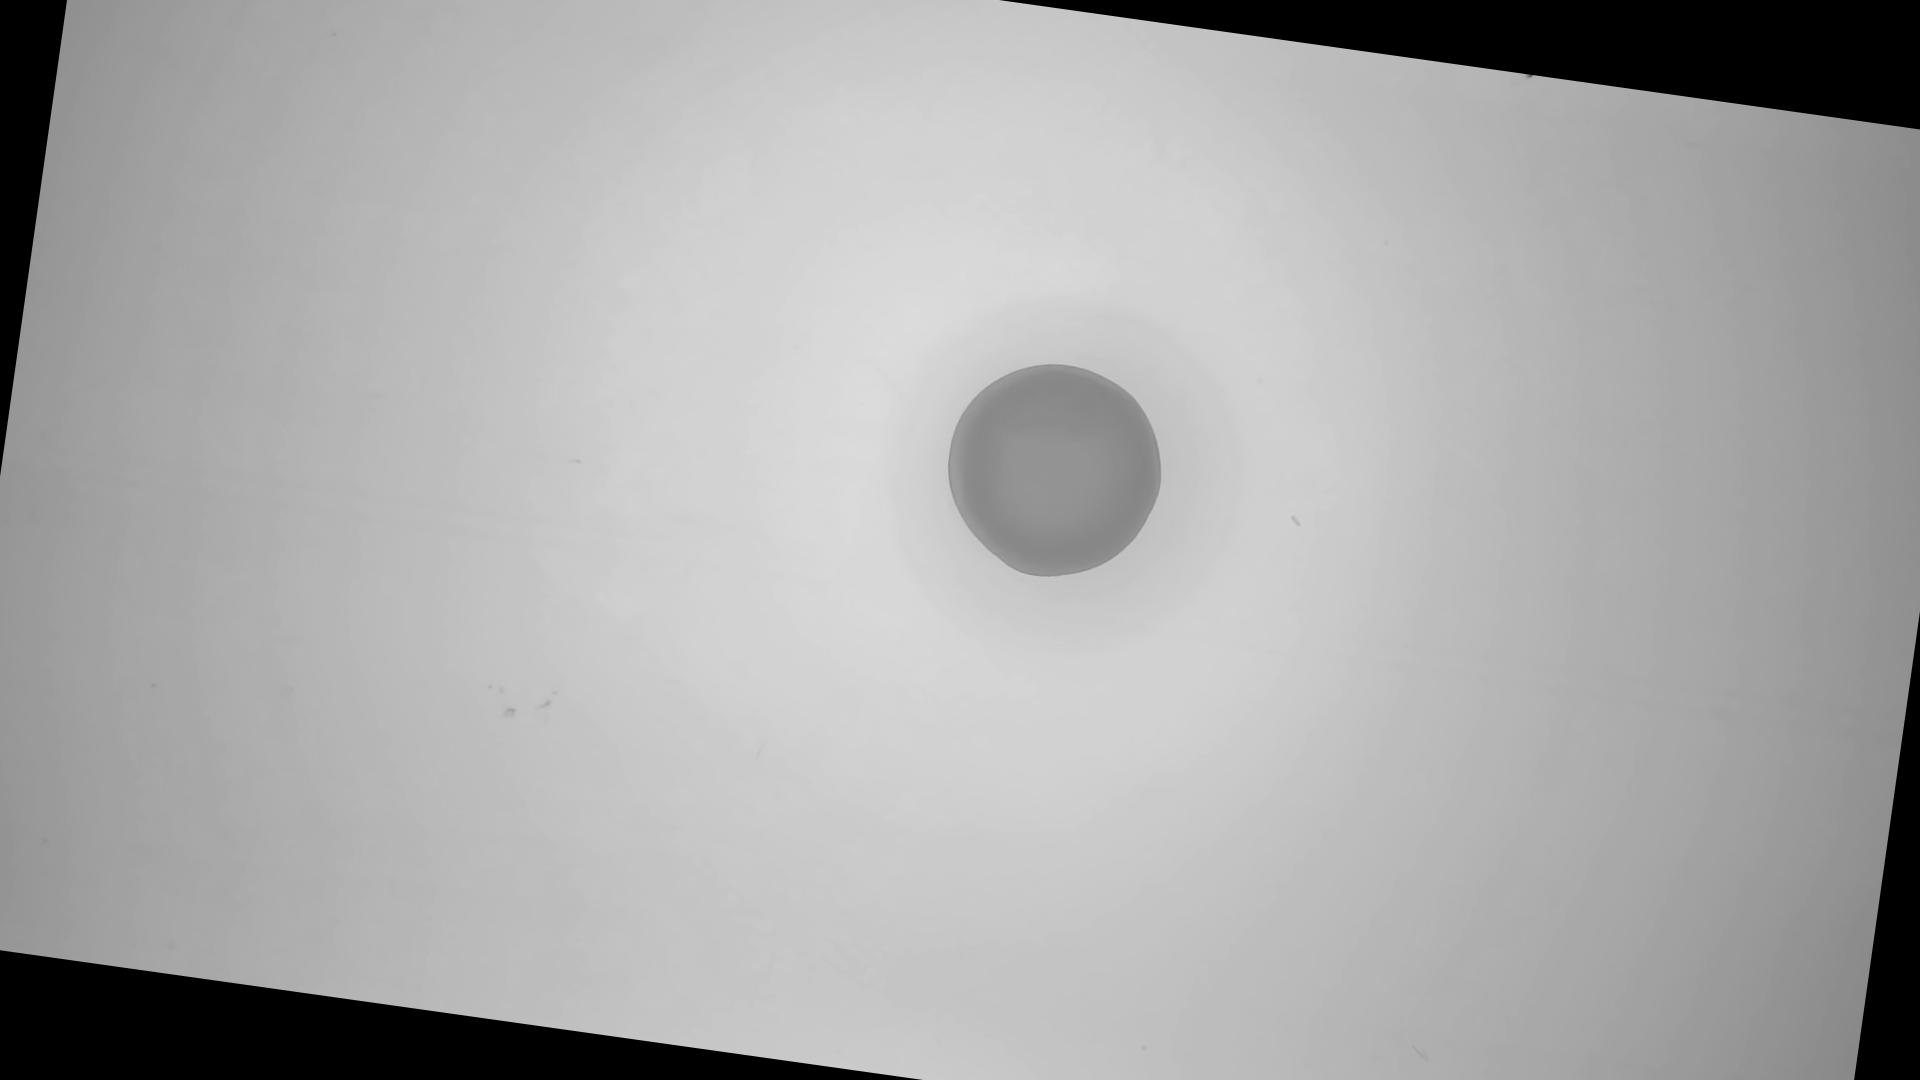normal: (931, 348, 1179, 596)
